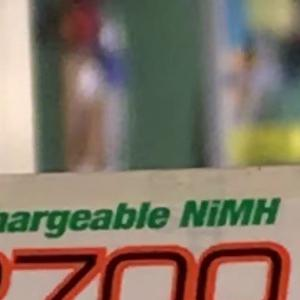keyword: (170, 188, 291, 237)
